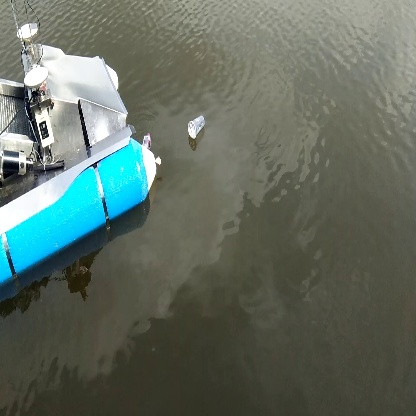bottle: (184, 112, 209, 145)
